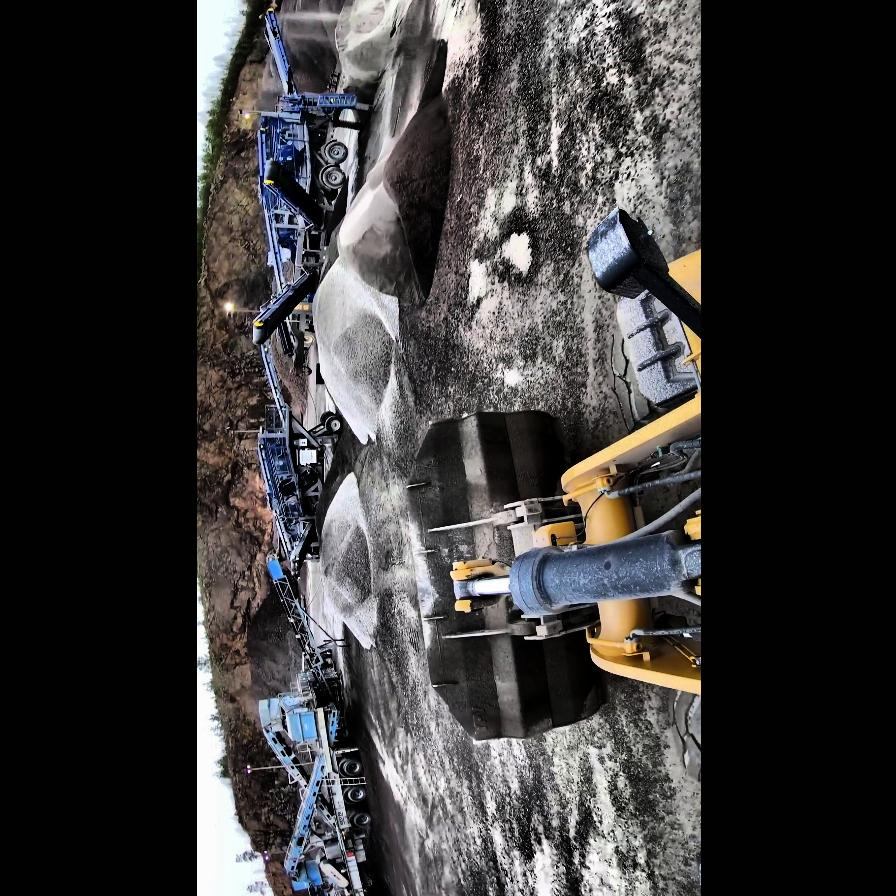anchor: (449, 560, 511, 612)
pile of gravel: (310, 33, 453, 447), (314, 454, 380, 650), (316, 292, 396, 434), (266, 0, 350, 104)
